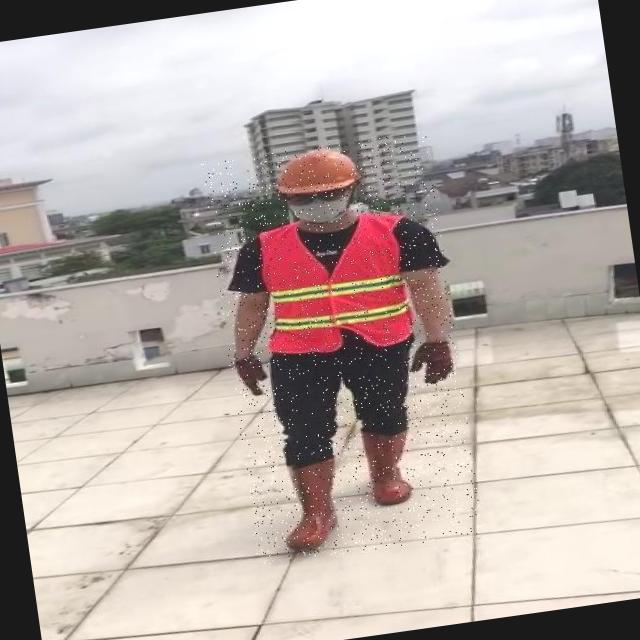boots: (268, 453, 350, 555), (365, 428, 421, 509)
gloves: (403, 324, 471, 399), (224, 346, 278, 421)
helmet: (269, 143, 362, 199)
vest: (255, 209, 418, 358)
